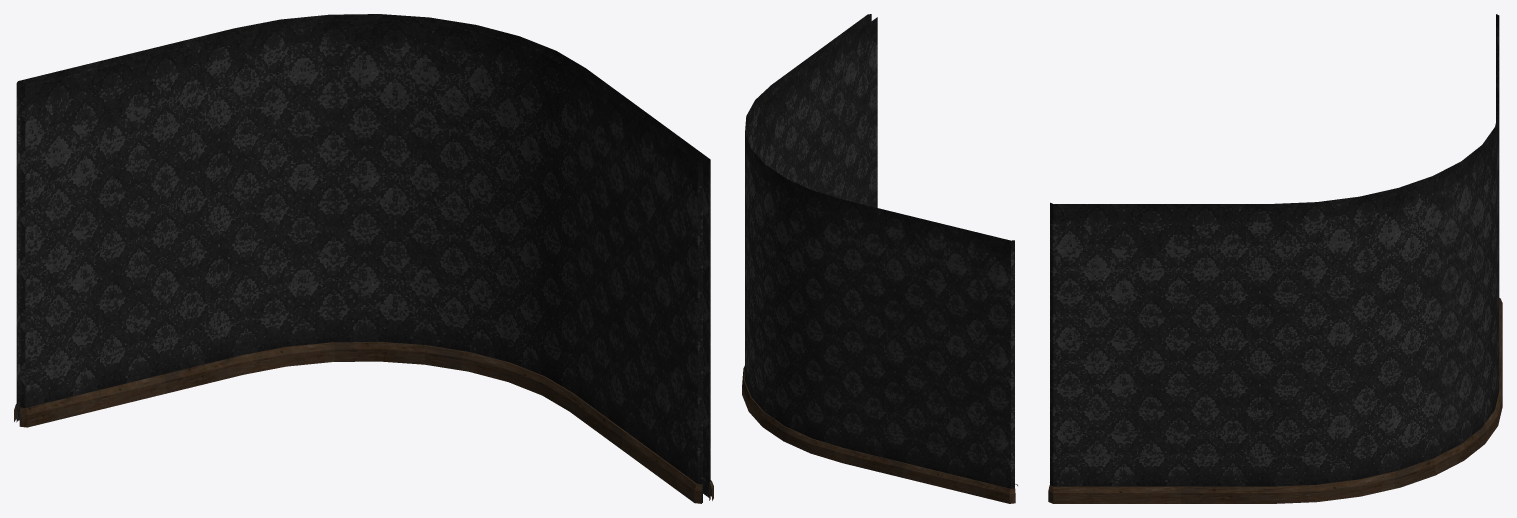
File: wall_1_1_rounded_corner_1.fbx
3 views of the same model, side by side, from view 1: azimuth 30°, elevation 25°; view 2: azimuth 150°, elevation 25°; view 3: azimuth 270°, elevation 25° (orthographic). The views are drawn at different scales.
Parts seen in each view (by area): view 1: wall_1_1_rounded_corner_1; view 2: wall_1_1_rounded_corner_1; view 3: wall_1_1_rounded_corner_1.
Boxes of the visible parts, <box> form: wall_1_1_rounded_corner_1: <box>14,14,713,503</box>; wall_1_1_rounded_corner_1: <box>742,14,1017,503</box>; wall_1_1_rounded_corner_1: <box>1048,14,1502,503</box>.
Size of the model in its own units: 4.14 by 3 by 4.14.
